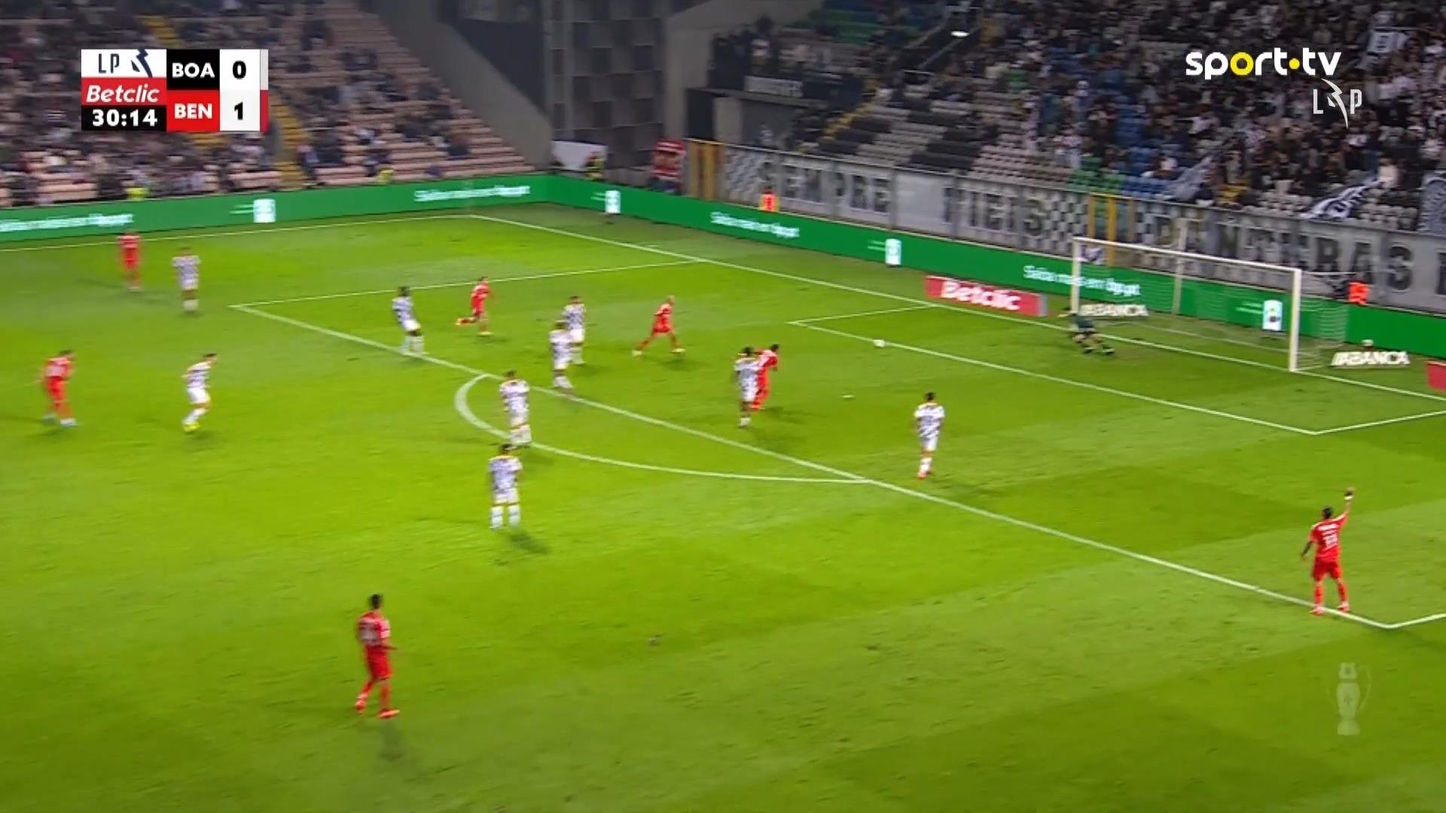ball: (872, 338, 883, 348)
goalkeeper: (1057, 309, 1115, 356)
player: (1298, 486, 1355, 615), (352, 592, 400, 718), (630, 294, 685, 357), (486, 440, 523, 530), (36, 348, 78, 427), (180, 351, 217, 433), (497, 368, 532, 448), (912, 391, 944, 478), (390, 284, 425, 355), (454, 275, 493, 336), (732, 345, 761, 427), (171, 245, 201, 314), (548, 318, 575, 389), (560, 294, 587, 365), (752, 342, 779, 410), (116, 226, 142, 291)
